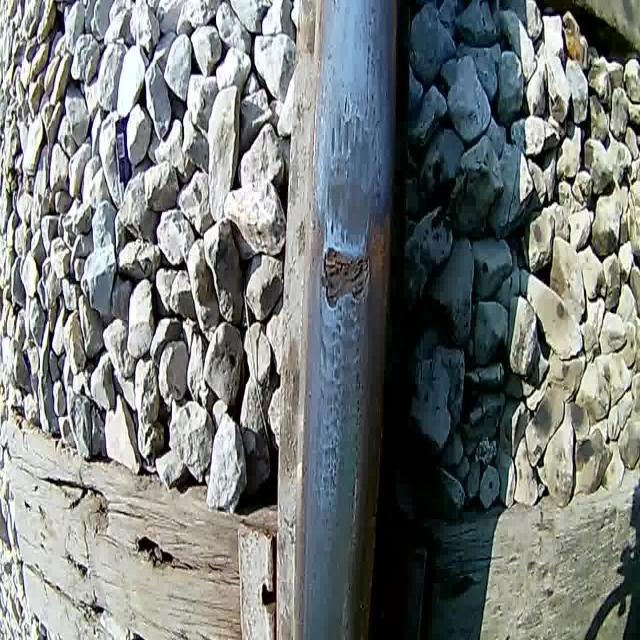Spallings: (314, 239, 376, 316)
Squats: (320, 89, 390, 252)
